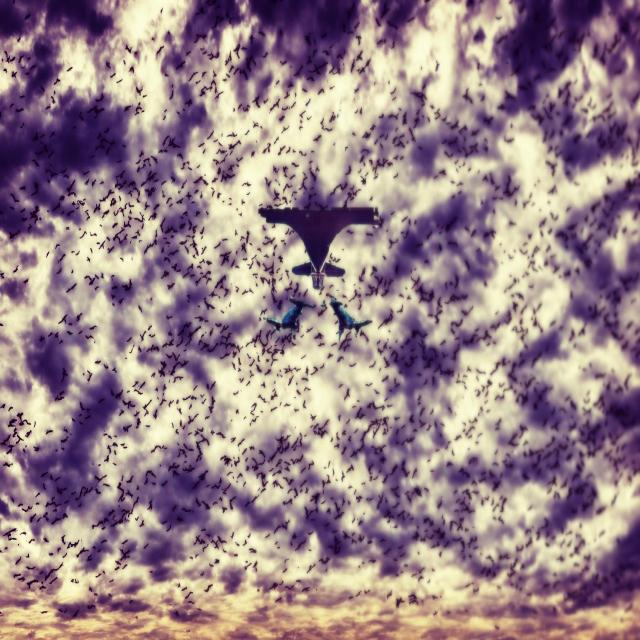airplane: (258, 202, 382, 292), (260, 293, 316, 336), (326, 296, 372, 341)
